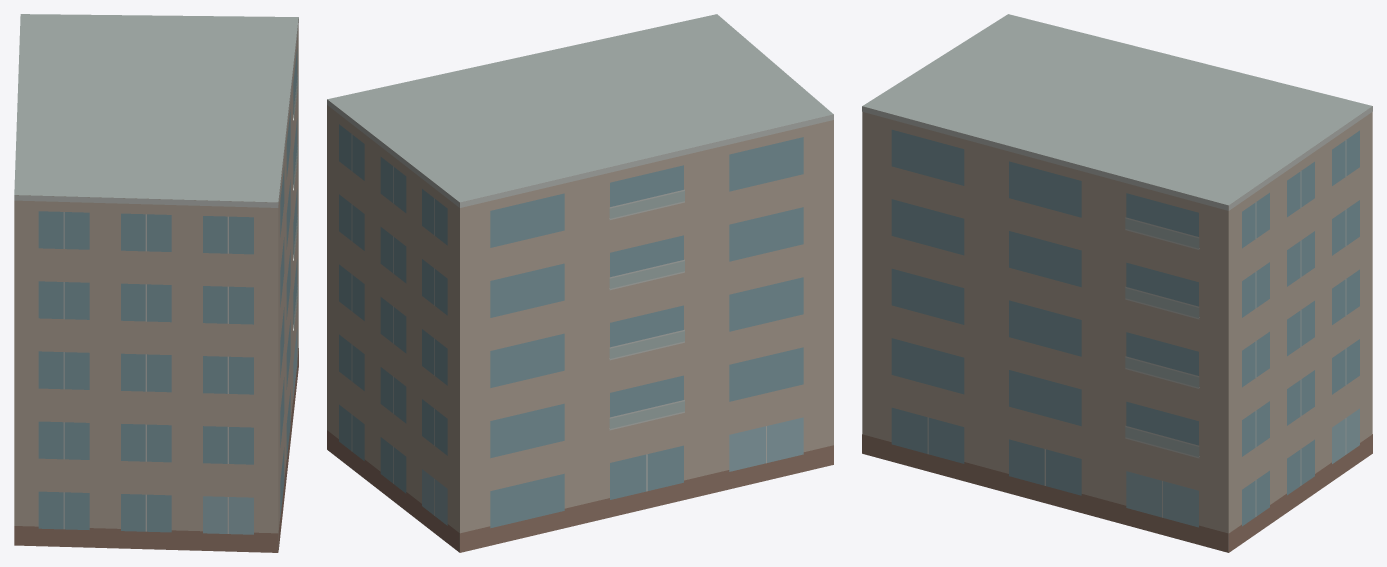
Rendered from survey-upis-32975499.glb.
The picture shows the model from 3 angles, left to right: view 1: azimuth 30°, elevation 25°; view 2: azimuth 150°, elevation 25°; view 3: azimuth 270°, elevation 25°; orthographic projection.
Parts seen in each view (by area): view 1: survey-upis-32975499.tmp; view 2: survey-upis-32975499.tmp; view 3: survey-upis-32975499.tmp.
Part boxes in pixels (box(x1,y1,x2,y2)): survey-upis-32975499.tmp: box(14, 14, 298, 552); survey-upis-32975499.tmp: box(327, 14, 833, 552); survey-upis-32975499.tmp: box(862, 14, 1372, 552).
Size of the model in its own units: 18.09 by 15.3 by 20.39.
